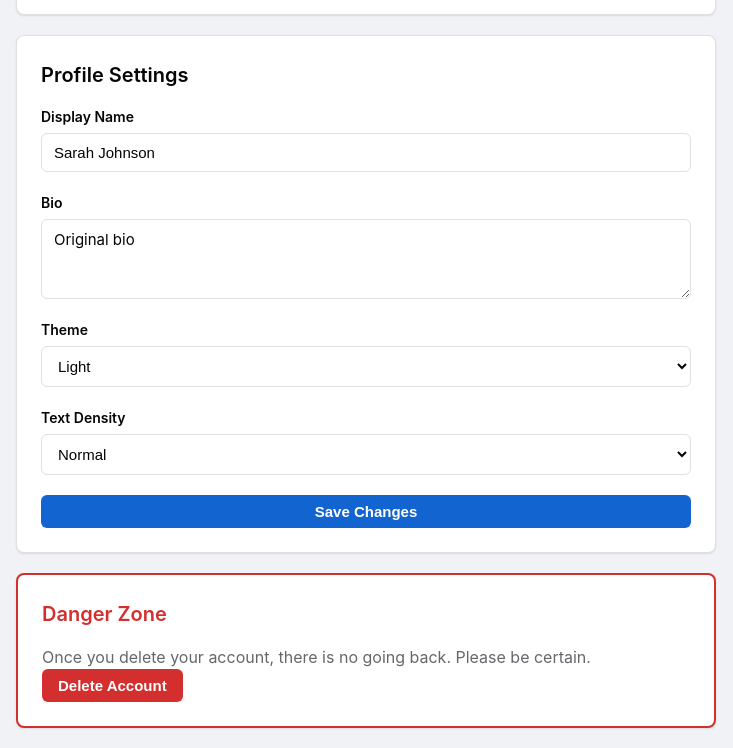
Test: Settings Page › shows an error message when saving fails
(page scrolled)
Click the button "Save Changes".
click(366, 512)  # box [41,495,691,528]
(page scrolled)
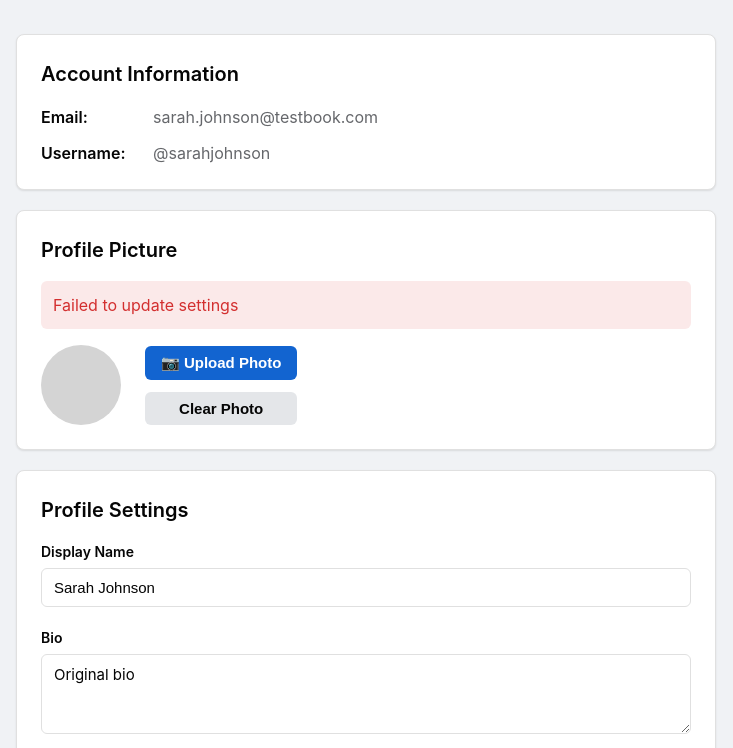
Expected: the text "Failed to update settings" is shown, [41,281,691,329]
